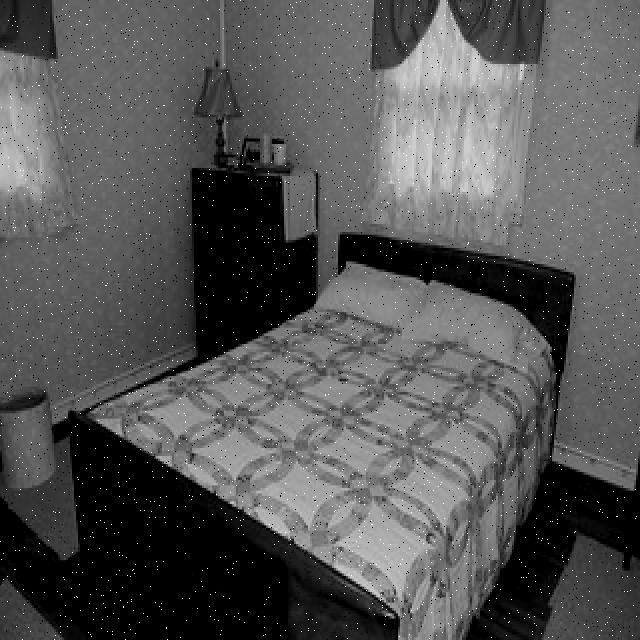bed: (71, 251, 591, 640)
